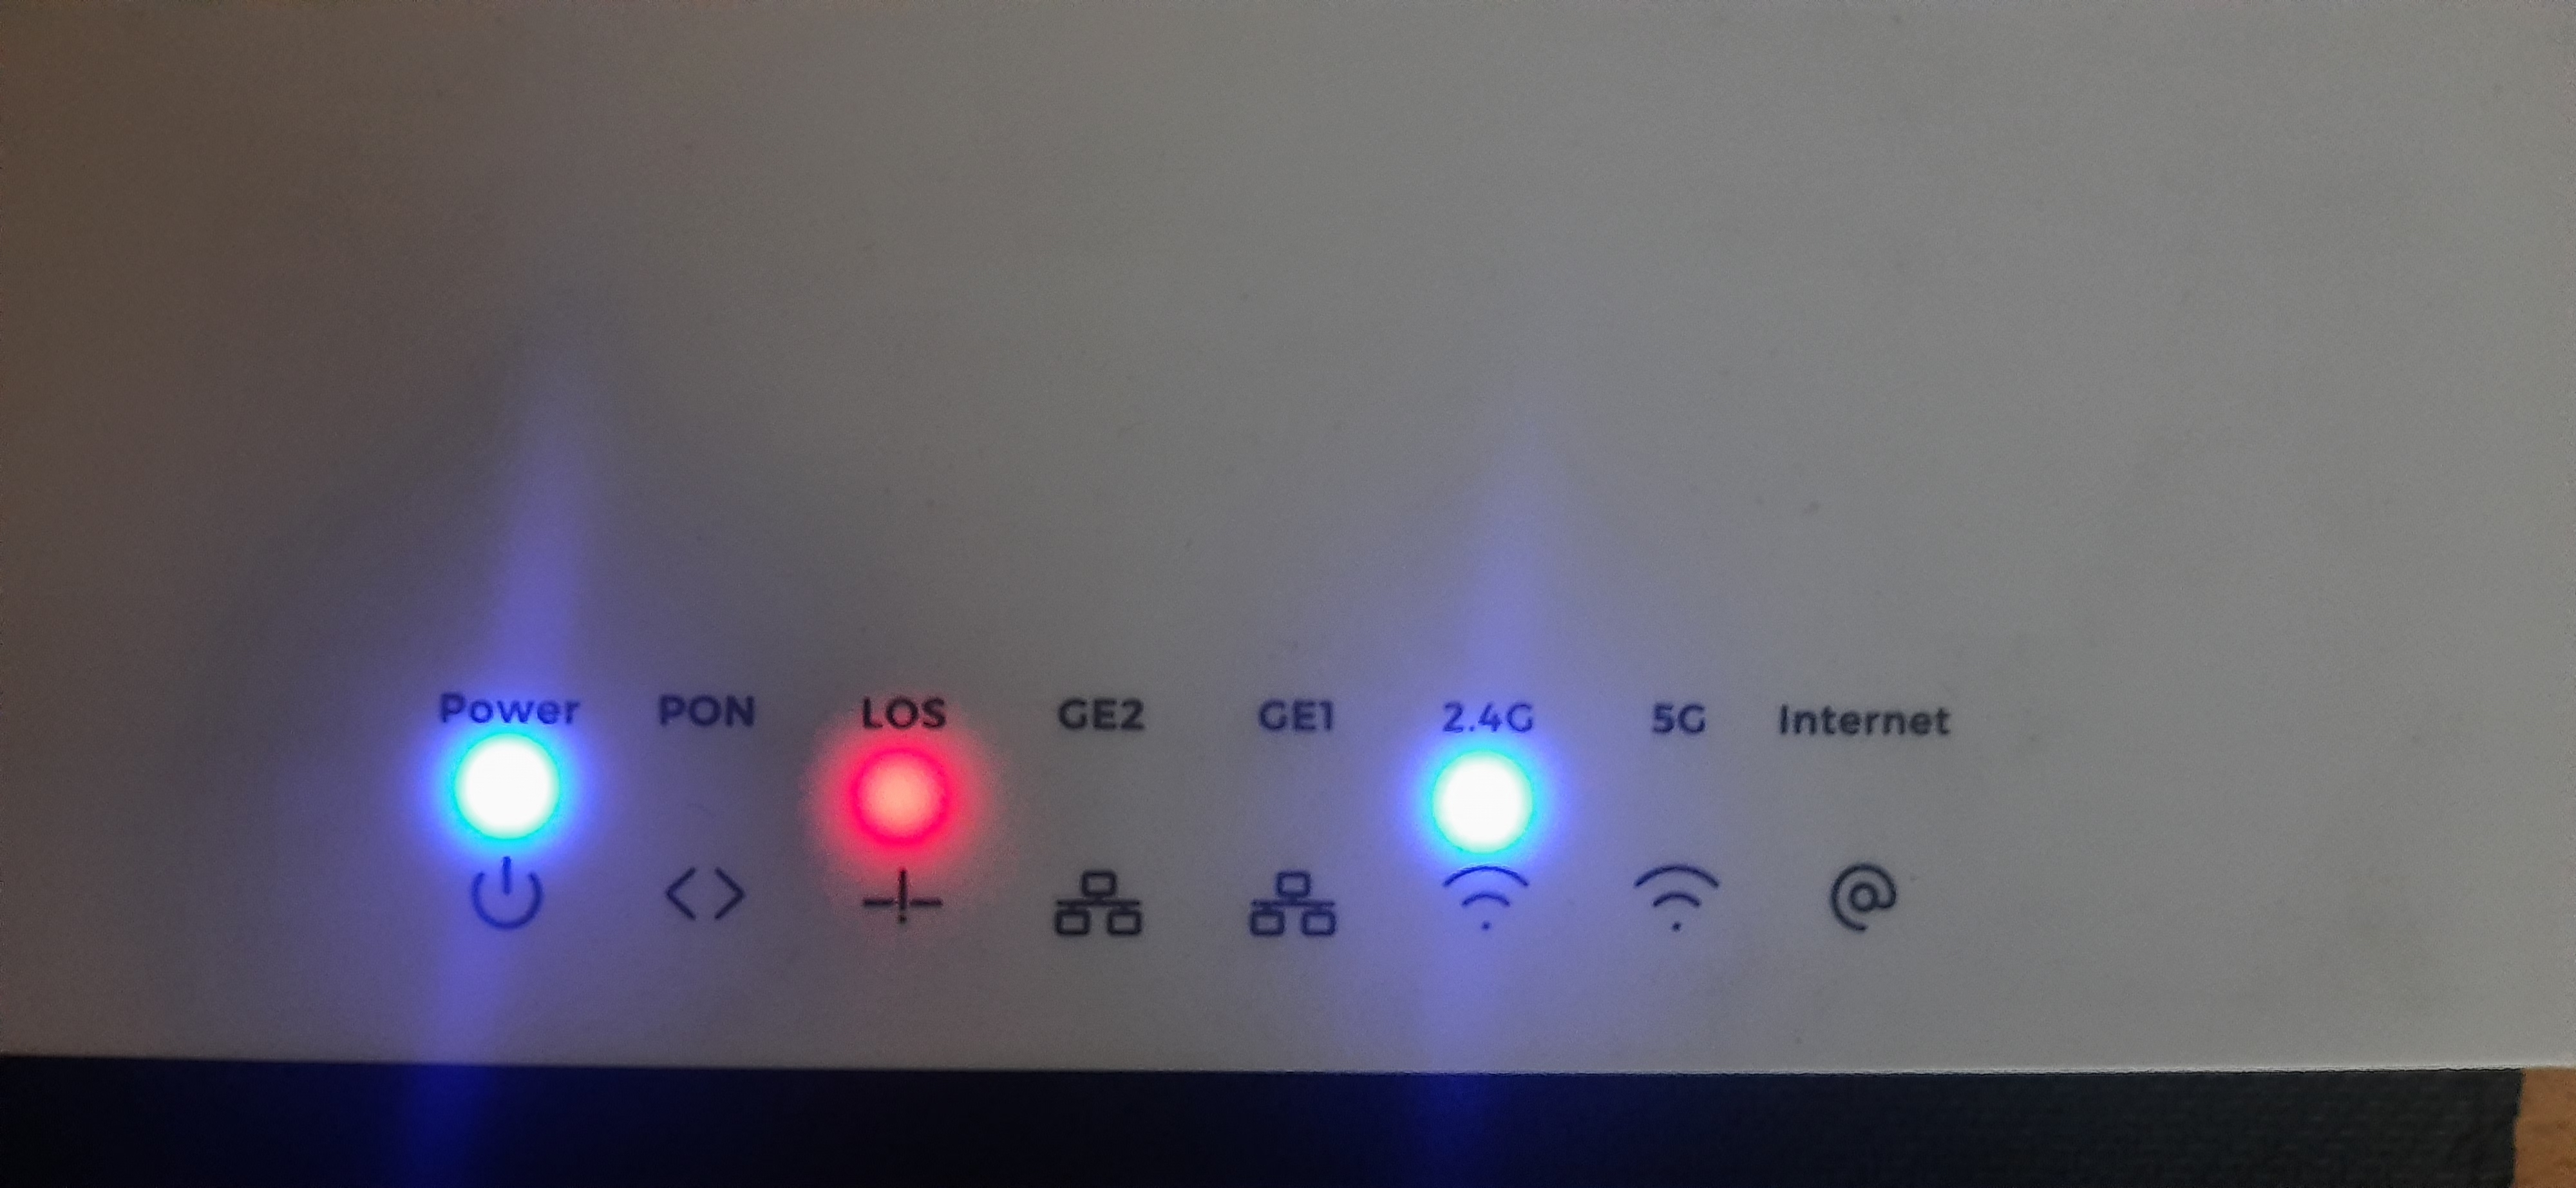LOSConnectionIssue: (787, 654, 1032, 1027)
